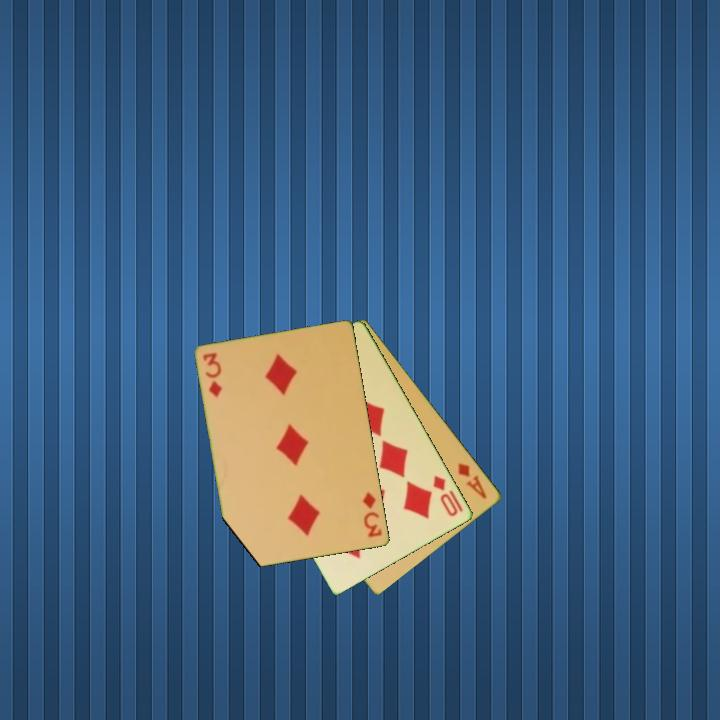10d: (430, 472, 461, 520)
3d: (359, 489, 385, 540), (200, 349, 225, 400)
Ad: (454, 459, 490, 502)
